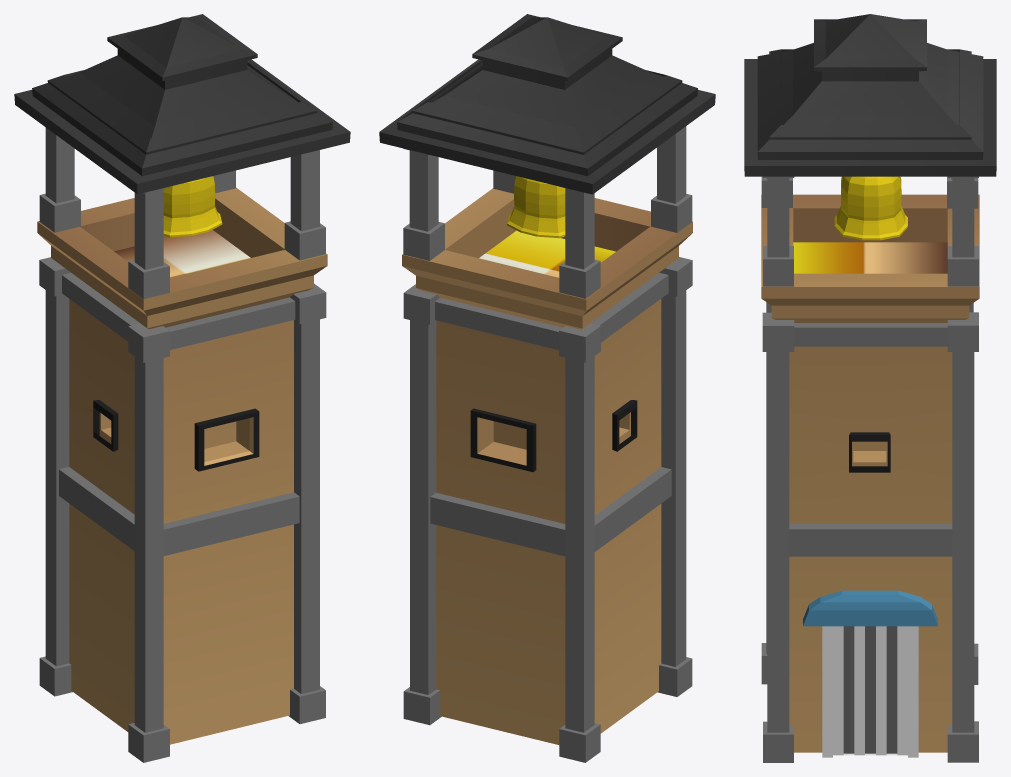
The model's file is torre.fbx.
3 views of the same model, side by side, from view 1: azimuth 30°, elevation 25°; view 2: azimuth 150°, elevation 25°; view 3: azimuth 270°, elevation 25° (orthographic). The views are drawn at different scales.
Visible parts, largest first — view 1: Cube; view 2: Cube; view 3: Cube.
Part boxes in pixels (x1,y1,x2,y2): Cube: (14,14,350,762); Cube: (379,14,715,762); Cube: (744,14,996,762).
Bounding box in the file's own units: 349 × 1068 × 348.
1 material, 1 textured.
